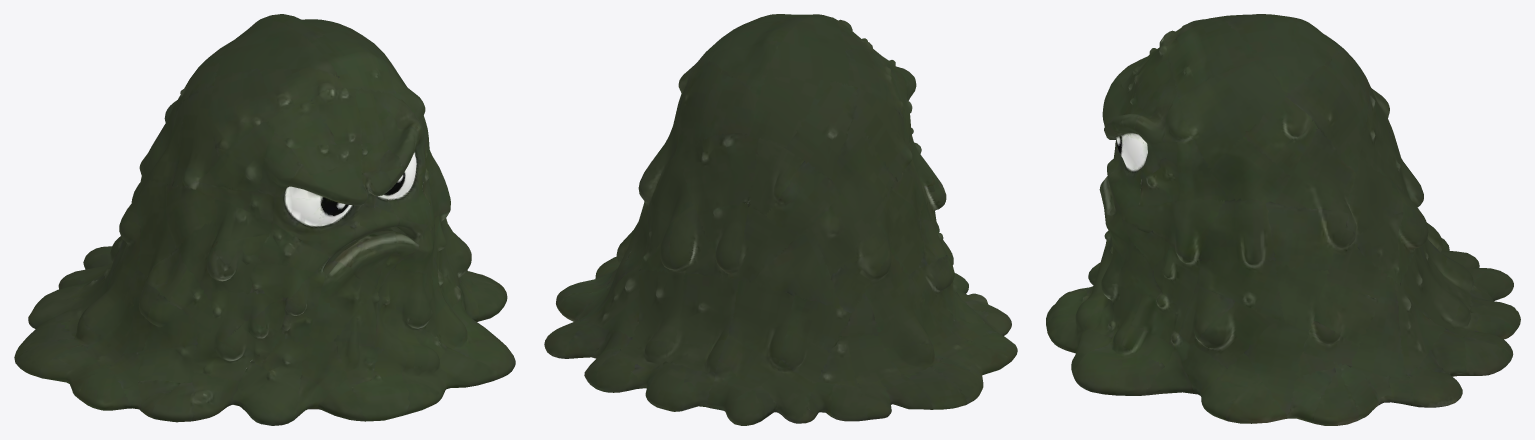
Rendered from grumpy_slime.glb.
3 renders of one model, left to right at view 1: azimuth 30°, elevation 25°; view 2: azimuth 150°, elevation 25°; view 3: azimuth 270°, elevation 25°, orthographic. The views are drawn at different scales.
Size of the model in its own units: 1.9 by 1.29 by 1.78.
1 material, 1 textured.
